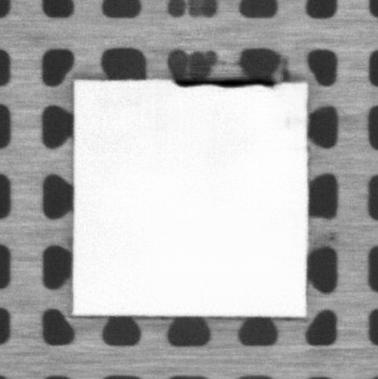DIE_BROKEN: (172, 76, 278, 91)
